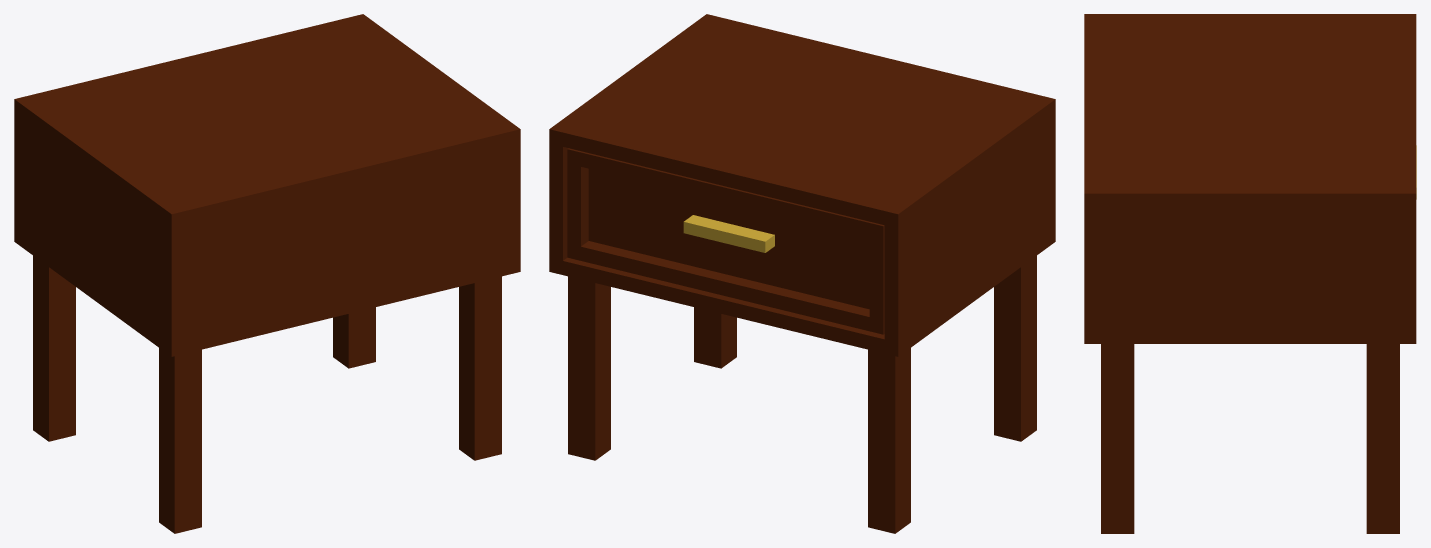
The model's file is Blockout_SideTable_03.fbx.
3 views of the same model, side by side, from view 1: azimuth 30°, elevation 25°; view 2: azimuth 150°, elevation 25°; view 3: azimuth 270°, elevation 25° (orthographic). The views are drawn at different scales.
Visible parts, largest first — view 1: SideTable_Unit_01; view 2: SideTable_Unit_01, SideTable_Drawer_01; view 3: SideTable_Unit_01.
Part boxes in pixels (left/top/right/bottom): SideTable_Unit_01: left=14, top=14, right=520, bottom=533; SideTable_Unit_01: left=549, top=14, right=1055, bottom=533; SideTable_Drawer_01: left=567, top=148, right=884, bottom=334; SideTable_Unit_01: left=1084, top=14, right=1416, bottom=533.
Bounding box in the file's own units: 64 × 57.5 × 50.01.
